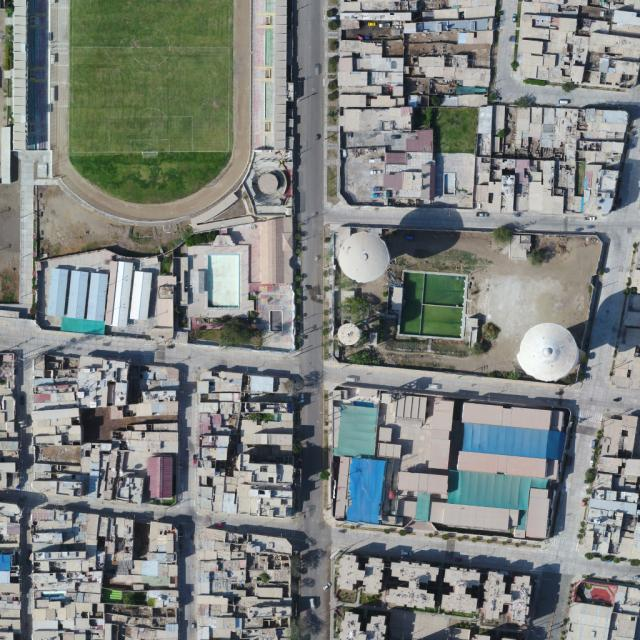building: (319, 383, 570, 542), (26, 353, 184, 505), (31, 508, 179, 640), (474, 104, 629, 216), (196, 371, 296, 518), (195, 527, 293, 639), (580, 415, 640, 560), (182, 233, 255, 320), (228, 216, 302, 291), (343, 147, 435, 207), (514, 317, 585, 388), (333, 227, 394, 289), (0, 502, 22, 639), (244, 154, 292, 214), (255, 284, 296, 349), (0, 351, 19, 488), (434, 151, 475, 209), (342, 129, 418, 154), (342, 107, 413, 132), (111, 261, 134, 327), (65, 270, 89, 320), (85, 272, 109, 322), (129, 271, 153, 320), (48, 267, 69, 316), (337, 323, 363, 346), (509, 234, 532, 260), (406, 130, 432, 152)
dryland: (332, 228, 602, 381), (36, 183, 185, 258), (0, 181, 20, 302)
greenland: (68, 0, 233, 204), (399, 270, 468, 340), (414, 107, 478, 153)
metalled_road: (458, 0, 581, 139), (322, 359, 580, 411), (329, 527, 557, 574), (323, 204, 598, 235), (526, 569, 576, 640), (176, 366, 199, 506), (15, 354, 33, 489), (20, 506, 34, 640)
